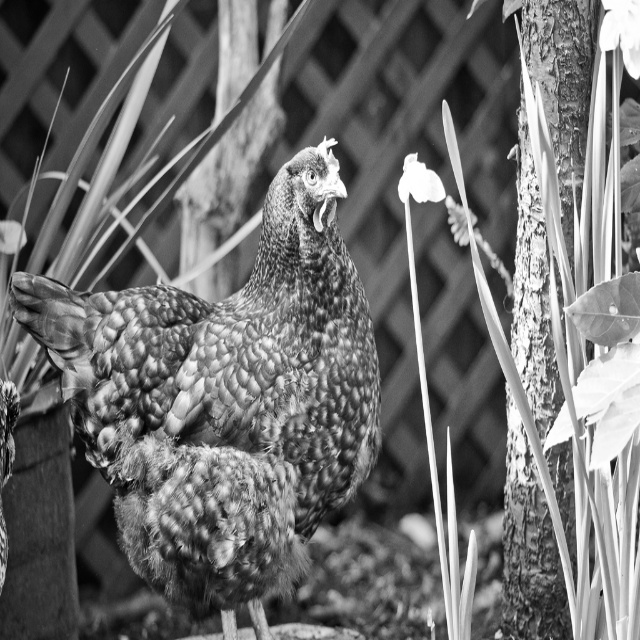Chicken: (21, 131, 385, 640)
